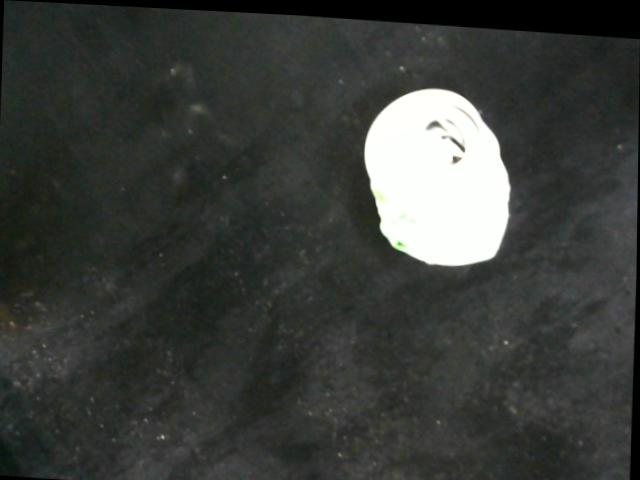can: (359, 73, 519, 262)
